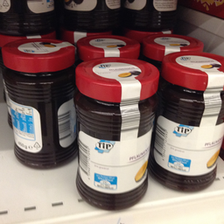jam: (74, 55, 160, 212), (151, 52, 224, 192), (1, 38, 79, 169)
